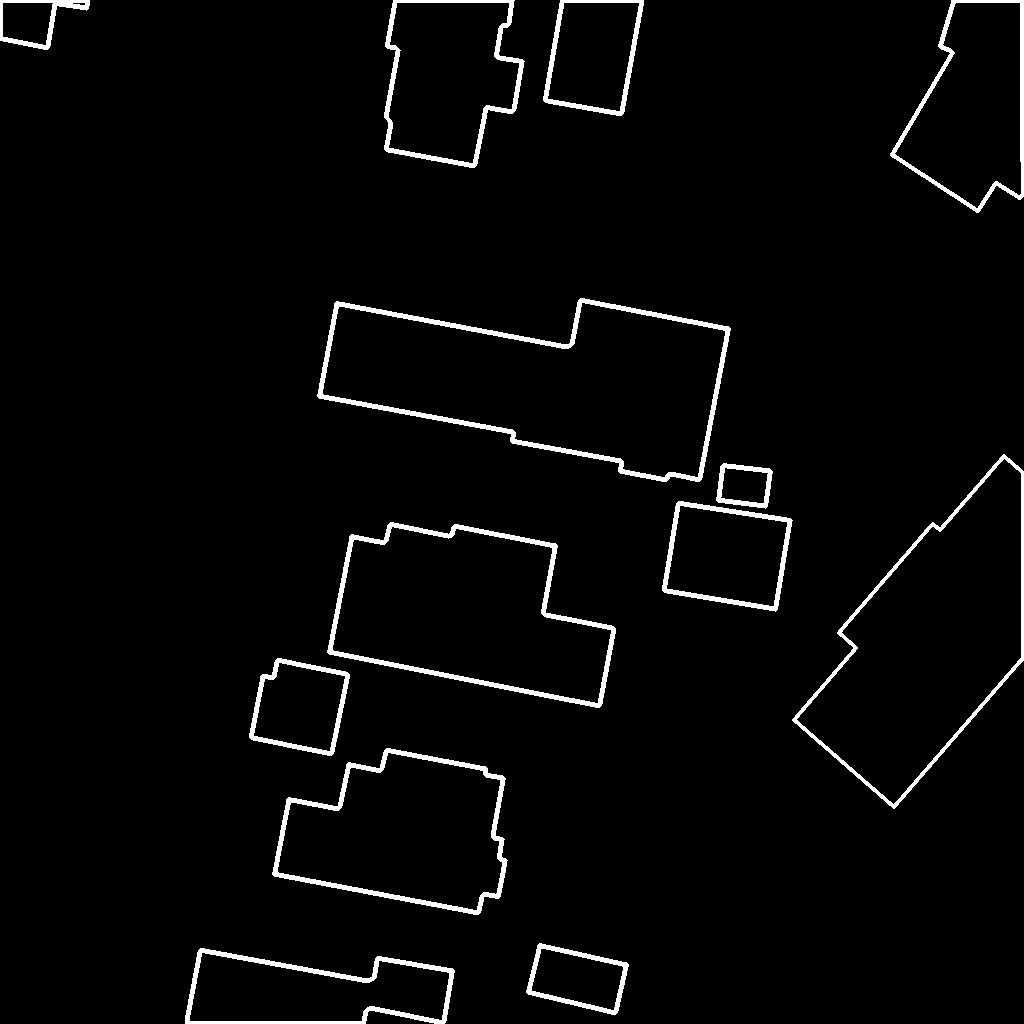building: (794, 456, 1024, 808), (319, 300, 730, 481), (329, 524, 615, 707), (274, 750, 506, 914), (892, 0, 1024, 212), (386, 0, 523, 167), (187, 950, 454, 1024), (664, 503, 791, 610), (545, 0, 643, 115), (251, 660, 349, 755), (528, 945, 628, 1014), (0, 0, 89, 49), (718, 465, 772, 507)
